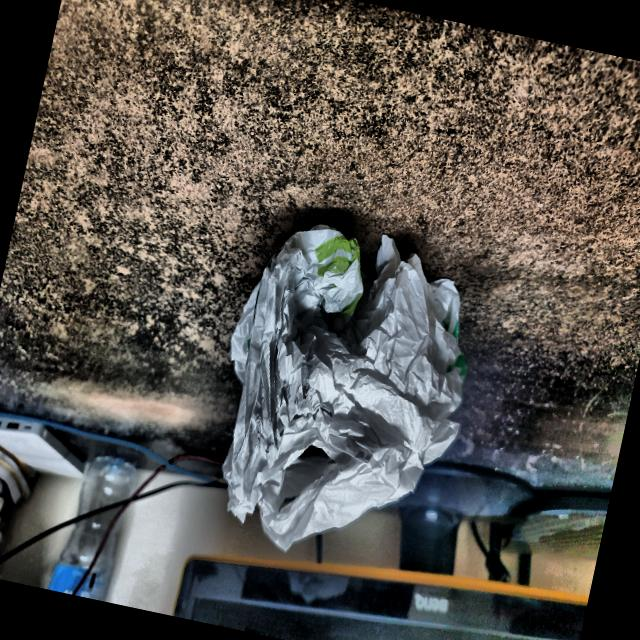plastic bag: (170, 181, 516, 598)
